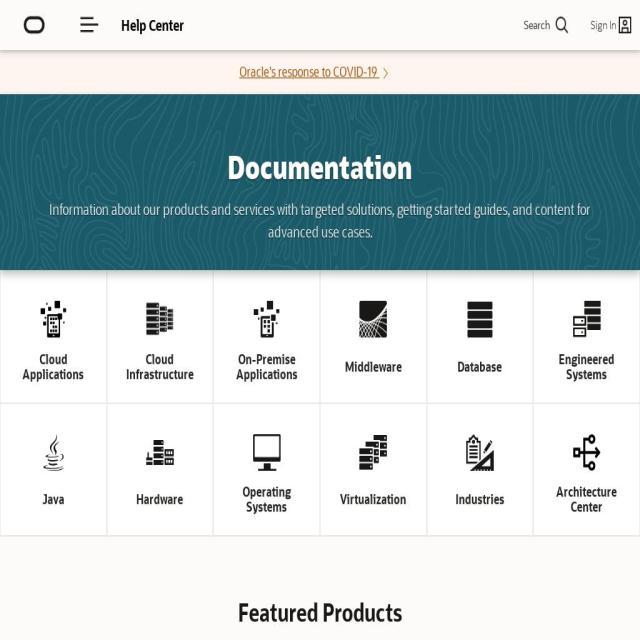button: (116, 270, 204, 402), (329, 270, 417, 402), (436, 270, 524, 402), (116, 403, 204, 535), (329, 403, 417, 535), (436, 403, 524, 535), (10, 270, 97, 402), (223, 270, 310, 402), (543, 270, 630, 402), (10, 403, 97, 535), (223, 403, 310, 535), (543, 403, 630, 535), (581, 0, 640, 50), (67, 0, 111, 50)
field: (477, 8, 573, 42)
heading: (26, 147, 614, 186), (9, 596, 630, 626)
image: (360, 301, 388, 338), (572, 301, 600, 338), (252, 434, 280, 471), (466, 434, 494, 471), (572, 434, 600, 471), (360, 435, 388, 470), (40, 301, 66, 338), (254, 301, 280, 338), (146, 302, 173, 336), (467, 301, 492, 337), (42, 434, 64, 471), (146, 440, 173, 465), (80, 12, 100, 38), (379, 64, 392, 82)
text: (26, 198, 614, 244), (240, 62, 380, 80), (125, 352, 193, 382), (556, 484, 618, 515), (235, 352, 298, 382), (22, 352, 84, 382), (559, 352, 615, 382), (240, 484, 293, 515), (121, 15, 184, 35), (340, 492, 407, 508), (24, 0, 45, 50), (344, 359, 402, 375), (455, 492, 504, 508), (136, 492, 184, 508), (458, 359, 502, 375), (588, 17, 616, 33), (42, 492, 64, 508)
